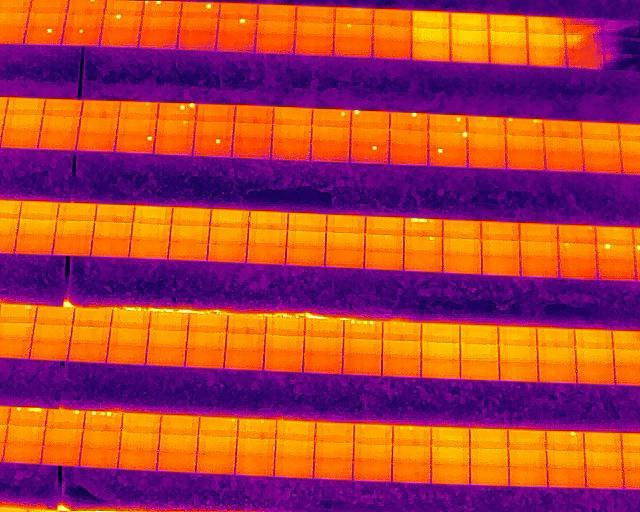Cell: (350, 142, 389, 163), (545, 430, 584, 451), (429, 147, 468, 167), (194, 138, 232, 158), (238, 418, 276, 438), (389, 112, 428, 131), (119, 101, 158, 120), (199, 417, 238, 436), (47, 410, 85, 429), (596, 243, 636, 261), (24, 27, 64, 45), (117, 135, 154, 154), (558, 242, 597, 260), (428, 114, 467, 132), (404, 235, 443, 253), (332, 23, 373, 40), (313, 109, 351, 127), (0, 305, 37, 323), (63, 28, 100, 46), (350, 110, 389, 127), (157, 119, 193, 137), (218, 17, 257, 33), (103, 14, 142, 30), (429, 132, 468, 148), (468, 117, 506, 133), (179, 3, 219, 17), (68, 0, 105, 13)
Cell-Multi: (343, 320, 383, 339), (393, 426, 431, 446), (505, 118, 544, 137), (84, 412, 122, 431), (158, 103, 196, 121), (143, 0, 181, 16)
No-Anomaly: (581, 151, 623, 174), (596, 260, 636, 282), (353, 459, 392, 481), (545, 148, 582, 171), (420, 357, 460, 378), (488, 45, 528, 66), (343, 354, 382, 375), (264, 351, 303, 372), (574, 329, 613, 350), (537, 327, 576, 348), (389, 144, 428, 165), (118, 449, 157, 470), (537, 364, 577, 384), (459, 360, 499, 380), (381, 357, 421, 377), (246, 244, 286, 264), (207, 242, 247, 262), (372, 41, 412, 61), (255, 33, 295, 53), (430, 427, 470, 447), (275, 419, 315, 439), (296, 35, 334, 56), (311, 141, 349, 162), (233, 138, 271, 159), (4, 443, 42, 464), (499, 361, 538, 381), (225, 350, 264, 370), (146, 346, 185, 366), (559, 260, 598, 280), (481, 256, 520, 276), (442, 254, 481, 274), (169, 240, 208, 260), (275, 457, 314, 477), (130, 239, 169, 259), (442, 236, 481, 256), (53, 235, 92, 255), (15, 235, 54, 255), (481, 220, 520, 240), (585, 468, 624, 488), (470, 466, 509, 486), (506, 149, 545, 169), (157, 451, 196, 471), (546, 450, 585, 470), (41, 446, 80, 466), (275, 439, 314, 459), (584, 432, 623, 452), (354, 424, 393, 444), (315, 422, 354, 442), (302, 354, 343, 373), (333, 40, 374, 59), (576, 366, 616, 385), (185, 349, 225, 368), (497, 326, 537, 345), (543, 119, 583, 138), (393, 462, 431, 482), (450, 44, 490, 63), (411, 43, 451, 62), (215, 33, 255, 52), (488, 30, 528, 49), (100, 29, 140, 48), (508, 468, 548, 487), (272, 140, 310, 160), (155, 136, 193, 156), (38, 132, 78, 151), (584, 451, 624, 470), (80, 448, 118, 468), (508, 430, 546, 450), (470, 429, 508, 449), (83, 429, 121, 449), (7, 425, 45, 445), (161, 415, 199, 435), (122, 413, 160, 433), (107, 345, 146, 364), (459, 325, 498, 344), (382, 322, 421, 341), (404, 252, 443, 271), (364, 251, 403, 270), (286, 247, 325, 266), (273, 106, 312, 125), (314, 461, 353, 480), (235, 457, 274, 476), (528, 49, 567, 68), (177, 32, 216, 51), (526, 15, 565, 34), (91, 239, 130, 258), (442, 219, 481, 238), (287, 213, 326, 232), (133, 205, 172, 224), (431, 465, 470, 484), (431, 446, 470, 465), (314, 441, 353, 460), (236, 438, 275, 457), (197, 435, 236, 454), (158, 433, 197, 452), (120, 431, 159, 450), (5, 97, 46, 115), (526, 33, 567, 51), (110, 327, 148, 346), (521, 259, 559, 278), (139, 30, 177, 49), (197, 454, 235, 473), (520, 240, 558, 259), (520, 223, 558, 242), (548, 469, 586, 488), (469, 148, 507, 167), (78, 133, 116, 152), (45, 428, 83, 447), (574, 348, 614, 366), (537, 346, 577, 364), (420, 341, 460, 359), (303, 336, 343, 354), (225, 332, 265, 350), (226, 316, 266, 334), (188, 314, 228, 332), (234, 105, 274, 123), (487, 15, 527, 33), (247, 228, 287, 246), (557, 225, 597, 243), (17, 219, 57, 237), (248, 211, 288, 229), (171, 208, 211, 226), (69, 344, 106, 363), (31, 342, 70, 360), (382, 340, 421, 358), (148, 329, 187, 347), (266, 318, 305, 336), (73, 308, 112, 326), (325, 250, 364, 268), (480, 239, 519, 257), (365, 234, 404, 252), (326, 232, 365, 250), (209, 226, 248, 244), (326, 214, 365, 232), (210, 210, 249, 228), (95, 205, 134, 223), (19, 202, 58, 220), (233, 122, 272, 140), (508, 450, 547, 468), (392, 446, 431, 464), (354, 443, 393, 461), (40, 116, 81, 133), (421, 324, 459, 342), (150, 312, 188, 330), (112, 310, 150, 328), (196, 121, 234, 139), (197, 104, 235, 122), (451, 13, 489, 31), (366, 216, 404, 234), (1, 131, 39, 149), (498, 345, 538, 362), (459, 344, 499, 361), (342, 339, 382, 356), (186, 332, 226, 349), (33, 325, 73, 342), (179, 15, 219, 32), (595, 226, 635, 243), (56, 203, 96, 220), (505, 135, 545, 152), (272, 123, 312, 140), (469, 450, 509, 467), (265, 336, 304, 353), (71, 326, 110, 343), (304, 320, 343, 337), (35, 308, 74, 325), (581, 122, 620, 139), (81, 100, 120, 117), (43, 100, 82, 117), (287, 230, 326, 247), (171, 225, 210, 242), (467, 133, 506, 150), (390, 129, 429, 146), (411, 11, 450, 28), (373, 9, 412, 26), (334, 7, 373, 24), (118, 119, 156, 136), (94, 222, 132, 239), (312, 125, 350, 142), (296, 5, 334, 22), (449, 29, 489, 45), (55, 220, 95, 236), (217, 3, 257, 19), (542, 135, 584, 150), (81, 117, 118, 134), (411, 28, 450, 44), (256, 18, 295, 34), (65, 12, 104, 28), (131, 224, 170, 240), (2, 115, 43, 130), (139, 16, 180, 31), (351, 127, 389, 143), (372, 26, 412, 41), (256, 4, 296, 19), (104, 0, 144, 15), (582, 138, 621, 153), (295, 21, 333, 36), (0, 324, 35, 340), (28, 12, 65, 27)
Shadowing: (602, 53, 640, 72), (566, 51, 604, 70), (602, 18, 640, 37), (564, 17, 602, 36), (602, 36, 640, 53), (565, 35, 602, 52)
Unclassified: (8, 407, 47, 427), (404, 219, 443, 237)
